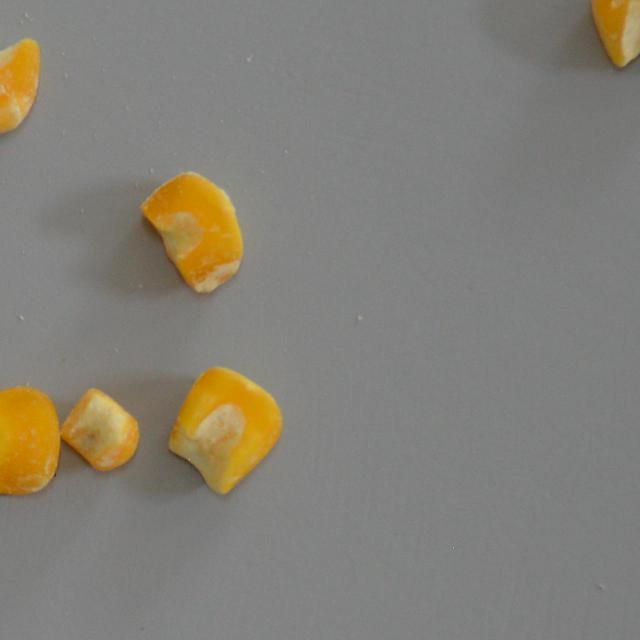no_desgerminado: (165, 366, 282, 496)
pelicula: (138, 169, 242, 294), (0, 383, 59, 496), (0, 14, 40, 136), (589, 0, 640, 73)
punto_negro: (60, 386, 141, 471)
